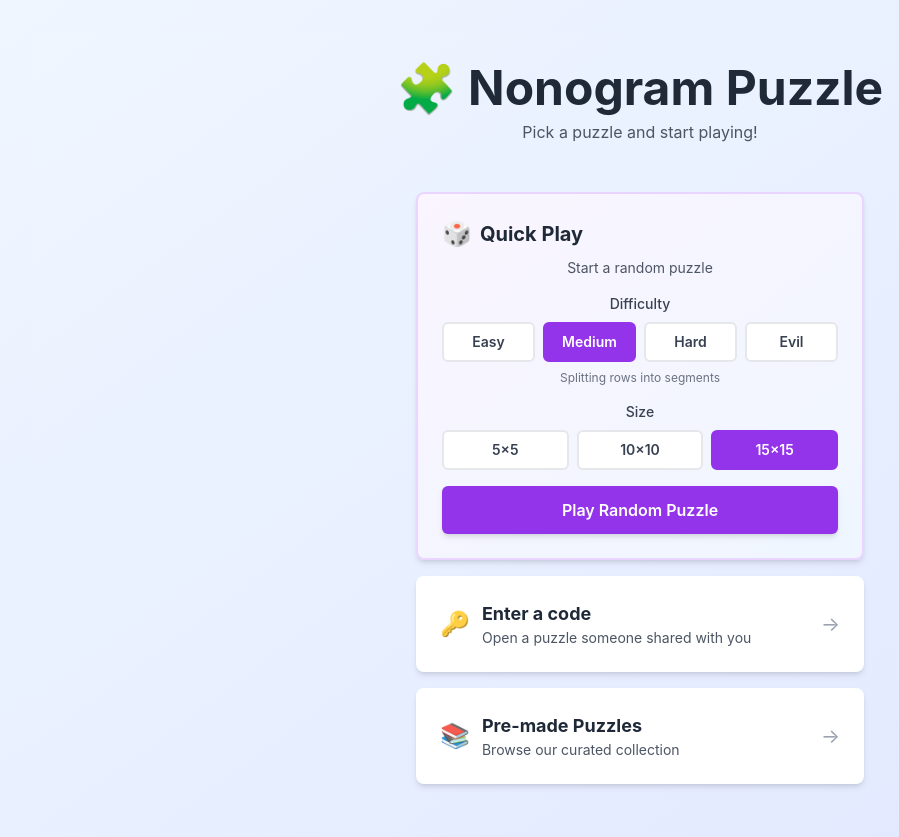
LandingPage › says which level it settled for when the budget ran out
The width and height of the screenshot is (899, 837).
Click the radio button labelled "Evil": click(792, 342) [745, 322, 838, 362]
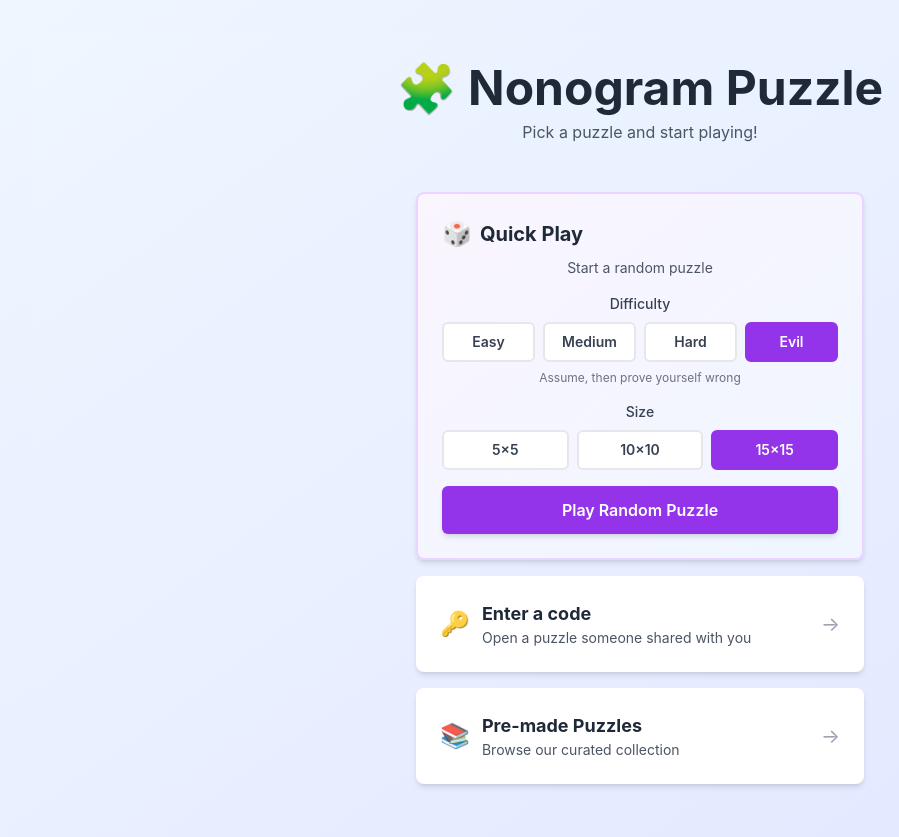
Click the button "Play Random Puzzle": click(640, 510) [442, 486, 838, 534]
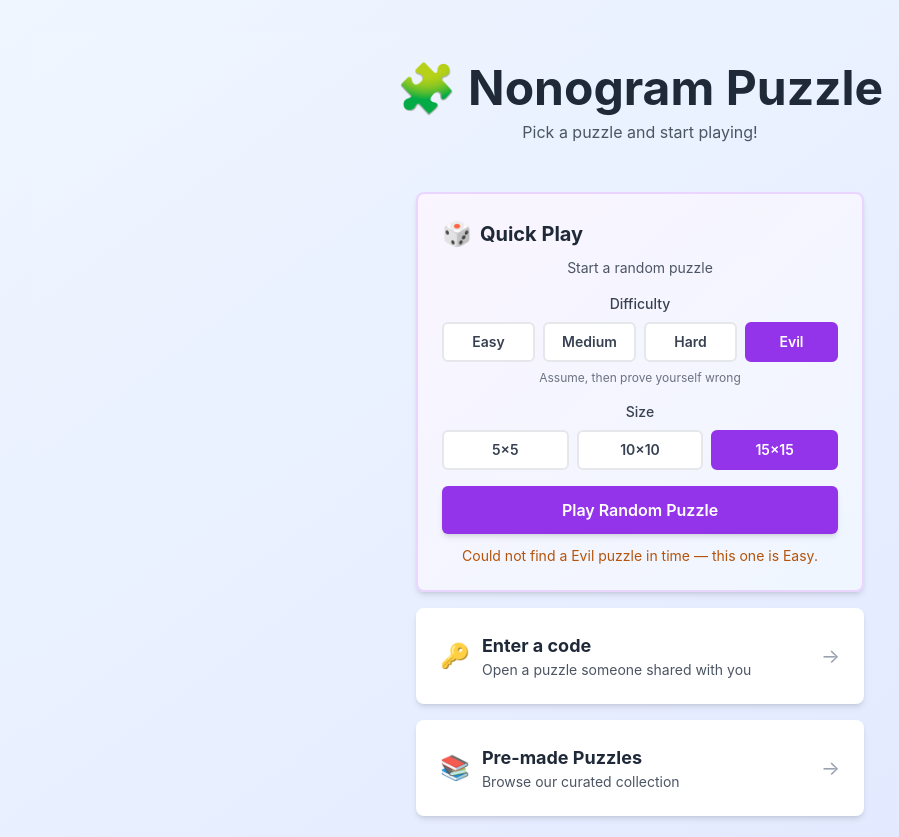
Check: the text "Could not find a Evil puzzle in time — this one is Easy." is shown, box [442, 546, 838, 566]
